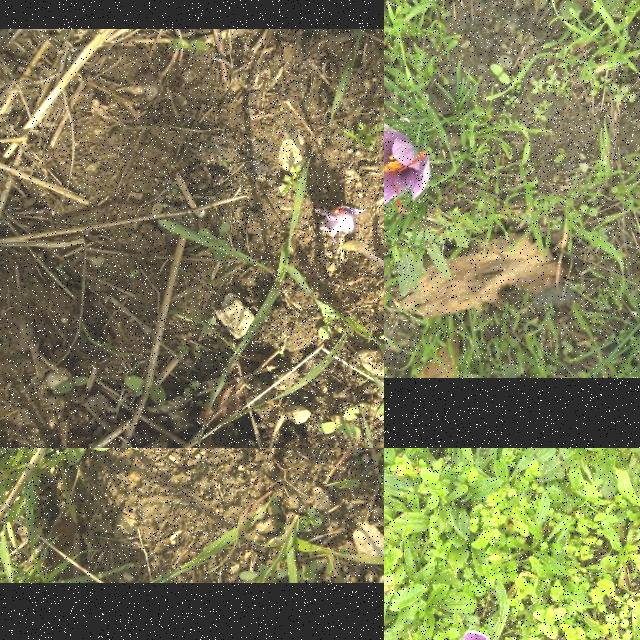flower: (384, 114, 431, 215), (314, 208, 366, 245), (454, 631, 496, 640)
